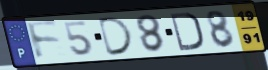5: (62, 20, 95, 57)
8: (135, 13, 167, 54), (206, 9, 237, 49)
D: (97, 15, 136, 58), (168, 11, 205, 52)
F: (24, 20, 63, 62)
